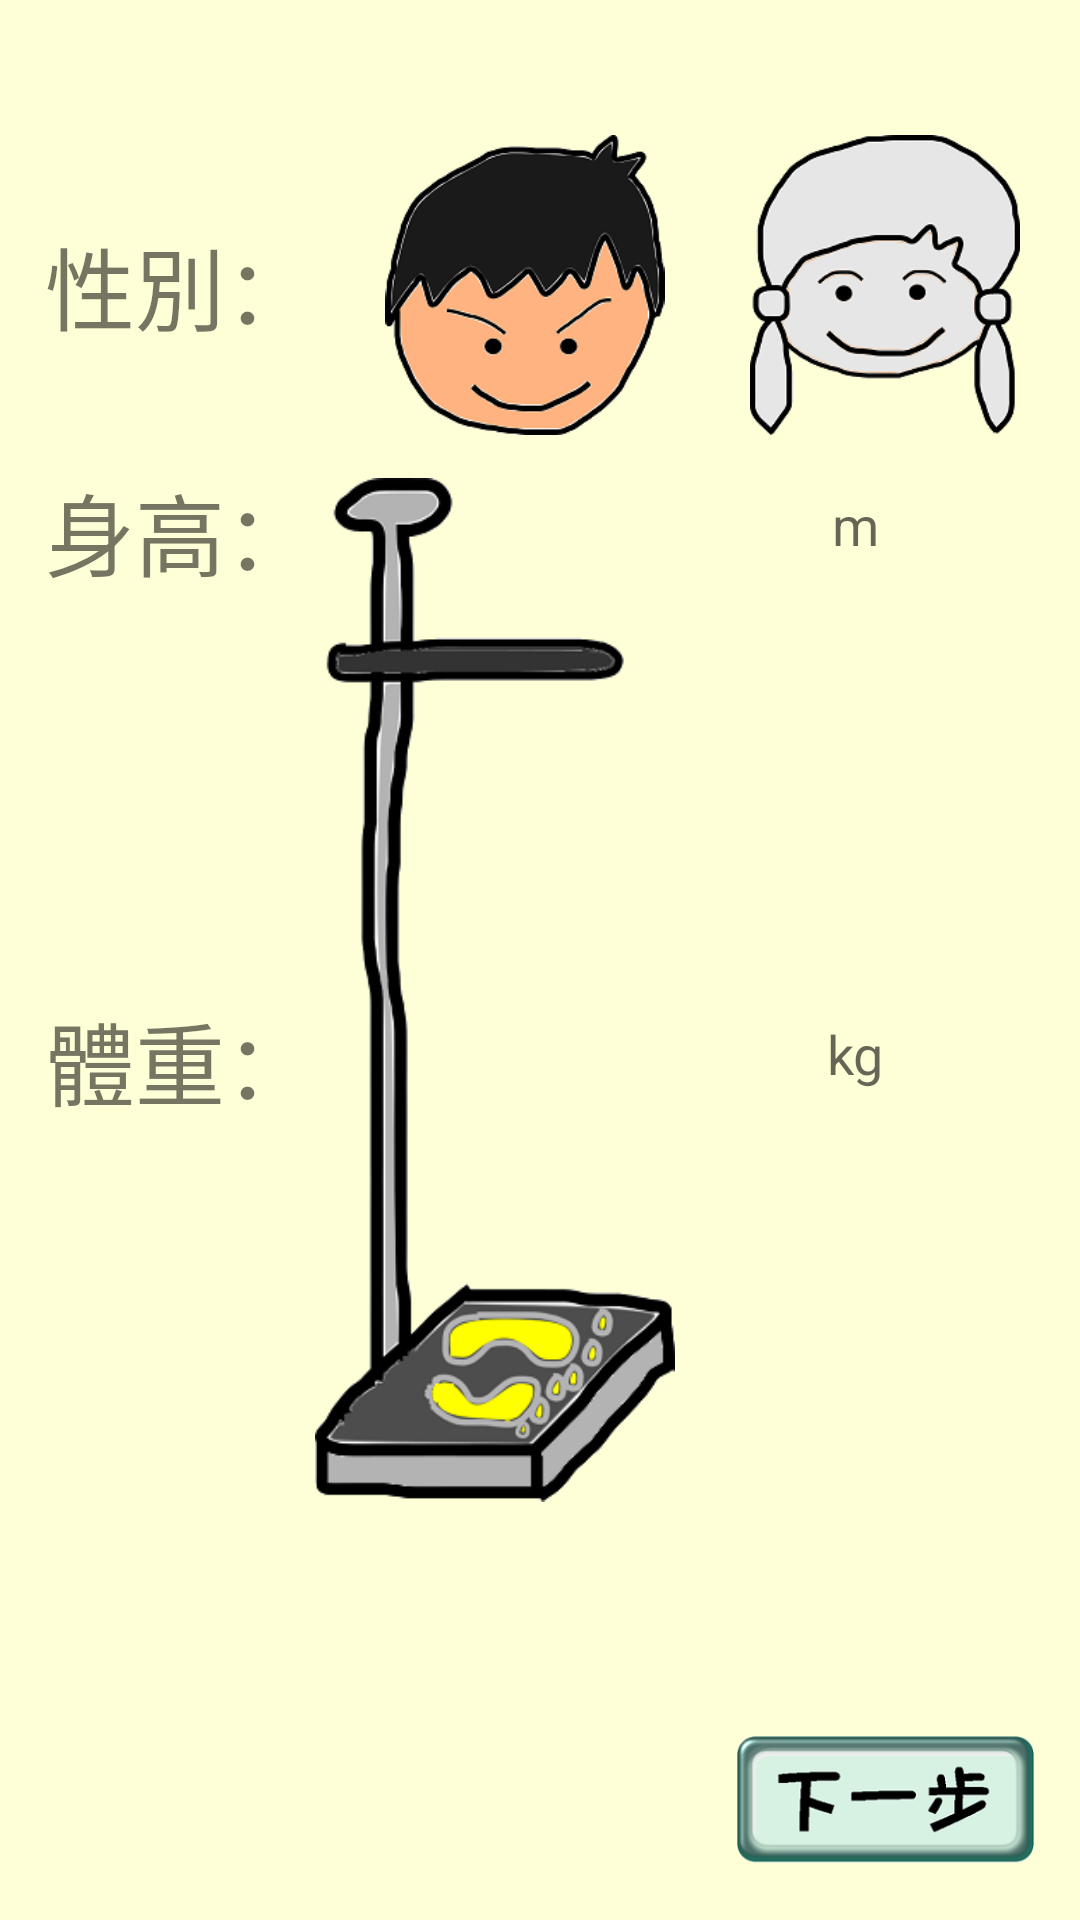

Icon bounding boxes for this 1080px x 1920px phone screenshot, format (x1, y1, x2, y2):
boy: (385, 135, 665, 435)
girlnochoice: (750, 135, 1020, 435)
